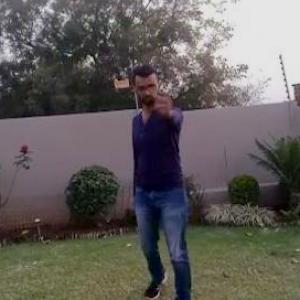takeoff-hand: (150, 92, 182, 122)
